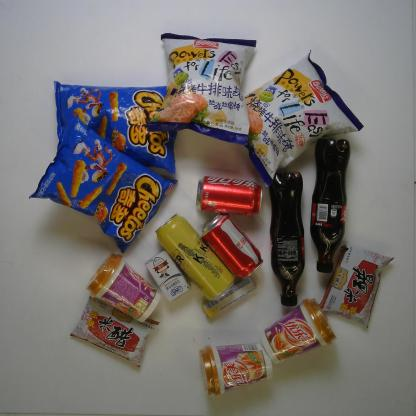Alcohol: (154, 212, 232, 299)
Candy: (201, 274, 257, 321)
Drink: (309, 135, 356, 276), (269, 169, 307, 306), (200, 212, 262, 277), (194, 174, 262, 218)
Instant Drink: (84, 253, 162, 321), (261, 297, 336, 364), (201, 340, 267, 398)
Milk: (145, 250, 191, 300)
Puffed Food: (30, 113, 179, 256), (240, 48, 366, 190), (146, 30, 261, 146), (49, 79, 181, 176)
Seasoner: (69, 294, 160, 368), (322, 244, 395, 332)
